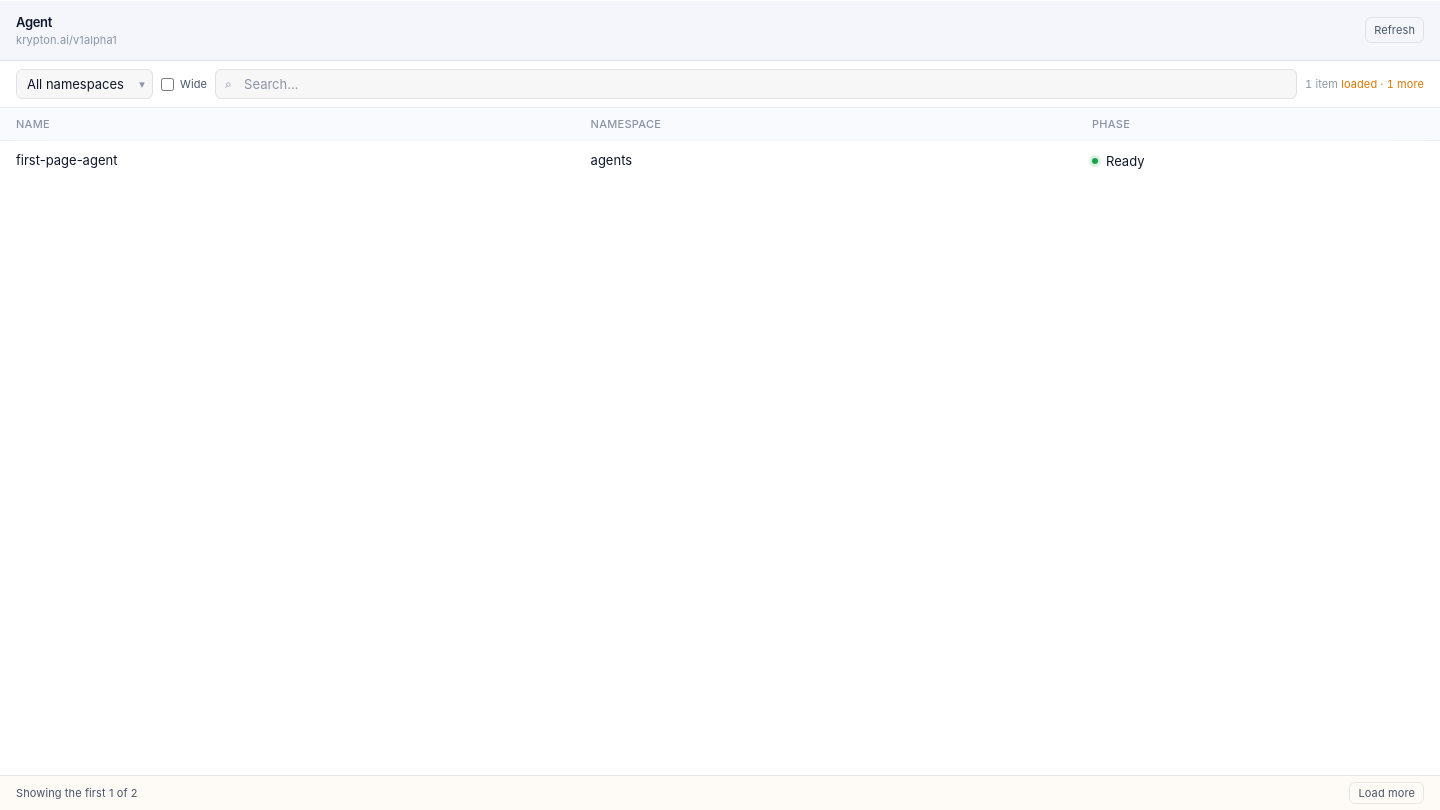
Test case: KindBrowser › shows rows from every page that has been loaded
What coordinates should you click on to do the following:
click the button "Load more"
I would click on:
 (1387, 793)
Its box is top-left (1350, 782), bottom-right (1424, 804).
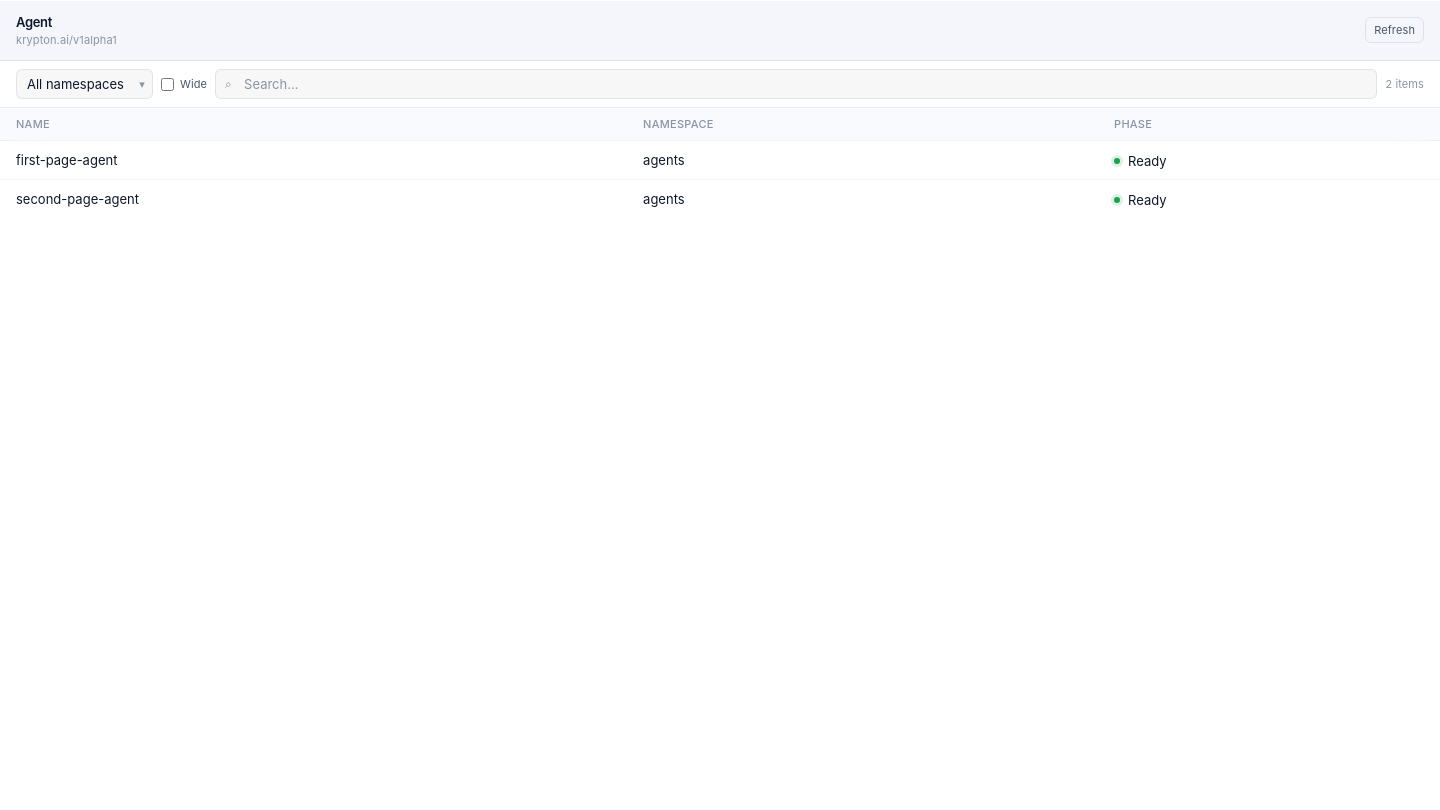
Expected: the text "first-page-agent" is shown, top-left (0, 140), bottom-right (627, 180)
Expected: the text "second-page-agent" is shown, top-left (0, 180), bottom-right (627, 218)
